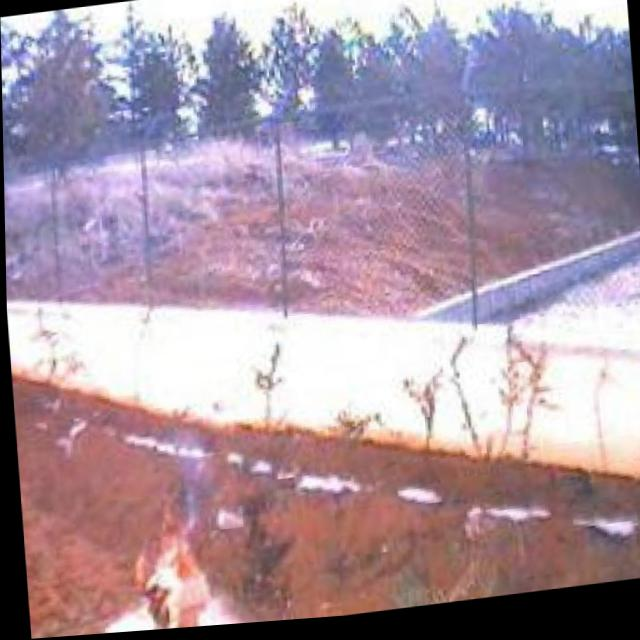Fire: (123, 482, 212, 633)
